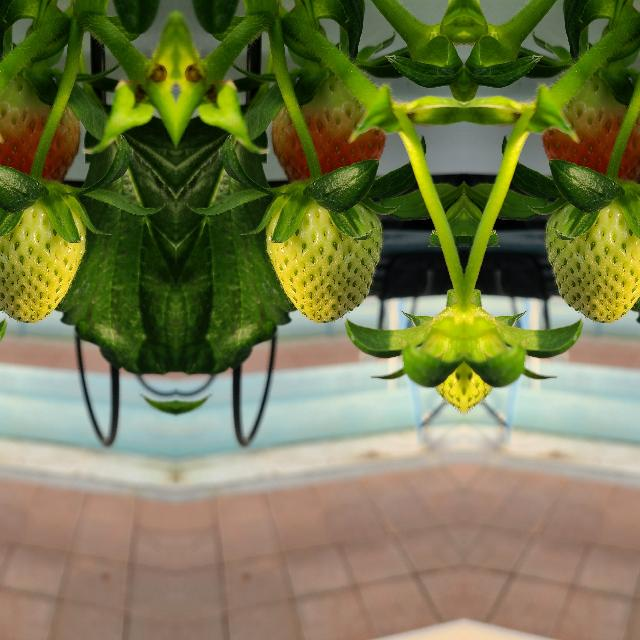Health_100: (270, 69, 382, 195), (543, 69, 640, 195), (0, 69, 80, 195)
Health_25: (266, 202, 380, 322), (545, 201, 640, 322), (0, 201, 84, 322)
